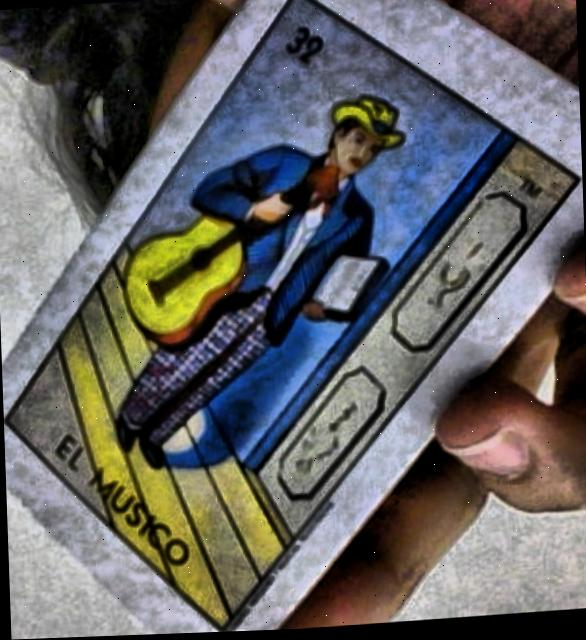El Musico: (5, 0, 574, 633)
